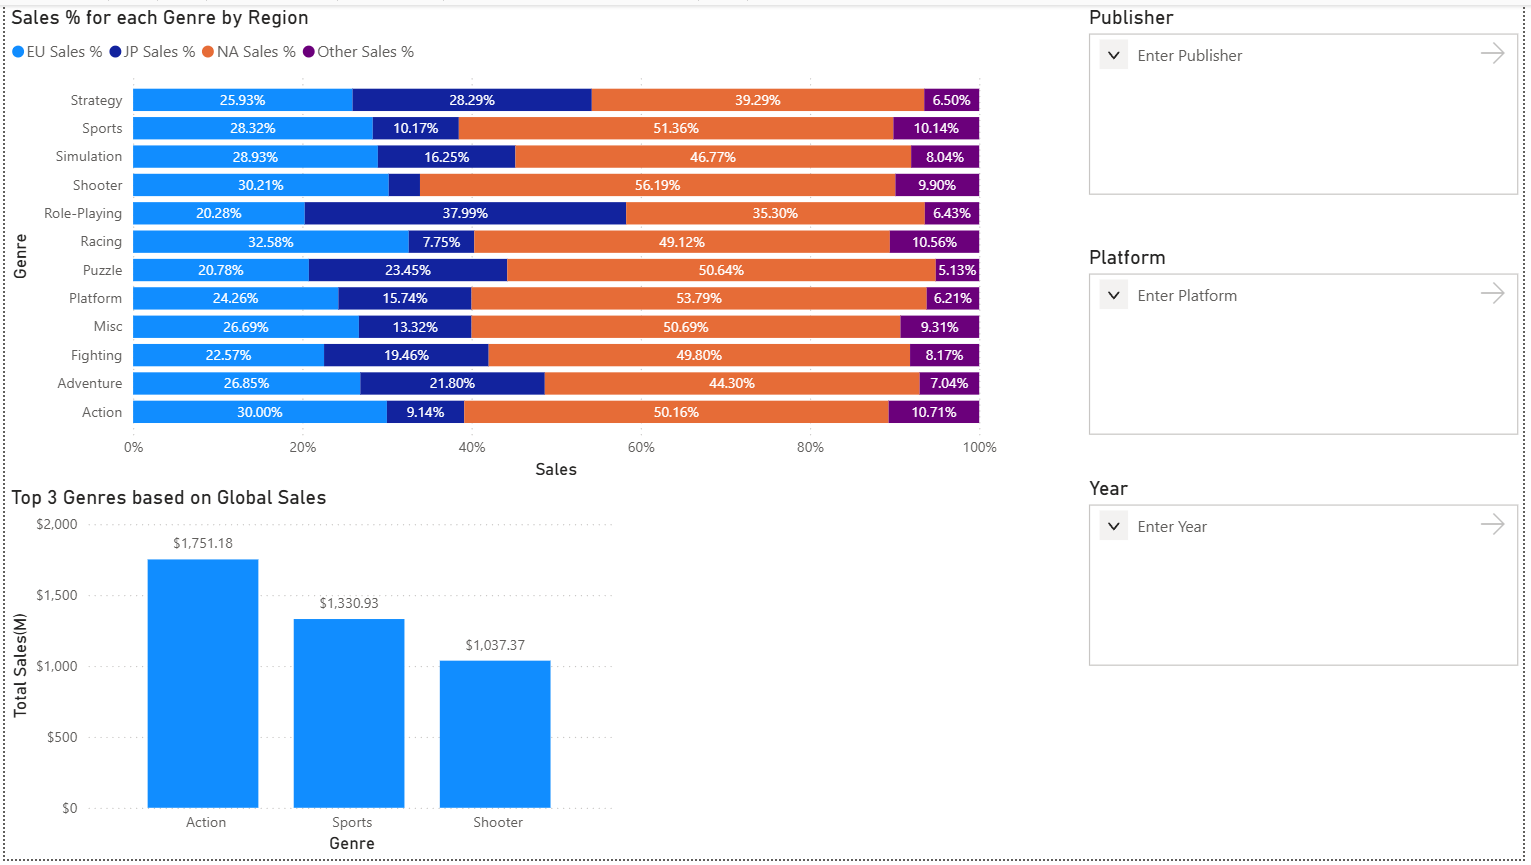

Layout of this report page (visuals, bound fields, positions):
{"tool":"powerbi","page":{"name":"Regional Sales by Genre","canvas":[1280,720],"ordinal":1},"visuals":[{"type":"hundredPercentStackedBarChart","title":"Sales % for each Genre by Region","fields":{"Category":["vgsales.Genre"],"Y":["vgsales.EU Sales %","vgsales.JP Sales %","vgsales.NA Sales %","vgsales.Other Sales %"]},"box":[0,0,841.3,404.6],"z":0},{"type":"textSlicer","fields":{"Values":["vgsales.Publisher"]},"box":[908.4,0,371.6,165.3],"z":1000},{"type":"textSlicer","fields":{"Values":["vgsales.Year"]},"box":[908.4,396.8,371.6,165.3],"z":2000},{"type":"textSlicer","fields":{"Values":["vgsales.Platform"]},"box":[908.4,202.3,371.6,165.3],"z":3000},{"type":"columnChart","title":"Top 3 Genres based on Global Sales","fields":{"Category":["vgsales.Genre"],"Y":["Sum(vgsales.Global_Sales)"]},"box":[0,404.6,519.4,315.1],"z":4000}]}

Visuals, with their boxes in screenshot pixels (x1, y1, x2, y2), scaled from the page's 1280x720 canvas onto the 1531x865 screenshot:
"Sales % for each Genre by Region" hundredPercentStackedBarChart: region(0, 0, 1006, 486)
textSlicer - vgsales.Publisher: region(1087, 0, 1530, 199)
textSlicer - vgsales.Year: region(1087, 477, 1530, 675)
textSlicer - vgsales.Platform: region(1087, 243, 1530, 442)
"Top 3 Genres based on Global Sales" columnChart: region(0, 486, 621, 864)
